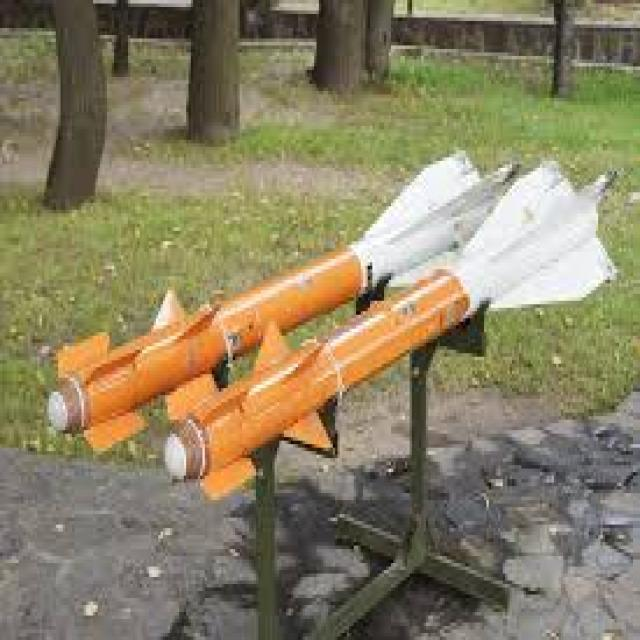missile: (155, 163, 614, 500), (42, 152, 512, 431)
